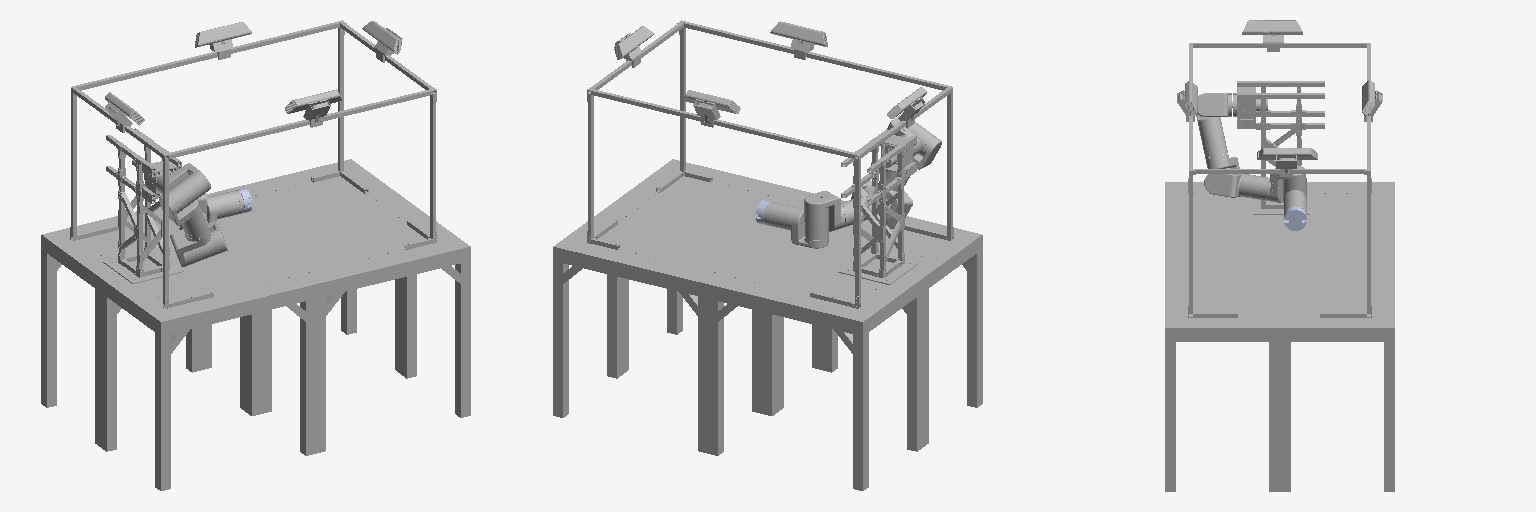
URDF robot description (arm_table_setup_home_g1):
<?xml version="1.0" encoding="utf-8"?>
<!-- This URDF was automatically created by SolidWorks to URDF Exporter! Originally created by [author] ([email redacted]) 
     Commit Version: 1.5.1-0-g916b5db  Build Version: 1.5.7152.31018
     For more information, please see http://wiki.ros.org/sw_urdf_exporter -->
<robot
  name="arm_table_setup_home_g1">
  <link
    name="base_link">
    <inertial>
      <origin
        xyz="0.555926187635155 -0.107150073903112 0.00613742105504832"
        rpy="0 0 0" />
      <mass
        value="152.887578230505" />
      <inertia
        ixx="11.7775480709916"
        ixy="-1.4306831755556E-07"
        ixz="-0.000210573790101669"
        iyy="22.1965870841863"
        iyz="-1.85714537732484E-09"
        izz="20.3629245361025" />
    </inertial>
    <visual>
      <origin
        xyz="0 0 0"
        rpy="0 0 0" />
      <geometry>
        <mesh
          filename="package://arm_table_setup_home_g1/meshes/base_link.STL" />
      </geometry>
      <material
        name="">
        <color
          rgba="0.752941176470588 0.752941176470588 0.752941176470588 1" />
      </material>
    </visual>
    <collision>
      <origin
        xyz="0 0 0"
        rpy="0 0 0" />
      <geometry>
        <mesh
          filename="package://arm_table_setup_home_g1/meshes/base_link.STL" />
      </geometry>
    </collision>
  </link>
  <link
    name="kinect_1">
    <inertial>
      <origin
        xyz="-0.0068373 0.0042244 0.031821"
        rpy="0 0 0" />
      <mass
        value="0.65867" />
      <inertia
        ixx="0.00026965"
        ixy="9.3546E-07"
        ixz="-4.3635E-08"
        iyy="0.0029864"
        iyz="5.7148E-06"
        izz="0.0031114" />
    </inertial>
    <visual>
      <origin
        xyz="0 0 0"
        rpy="0 0 0" />
      <geometry>
        <mesh
          filename="package://arm_table_setup_home_g1/meshes/kinect_1.STL" />
      </geometry>
      <material
        name="">
        <color
          rgba="0.75294 0.75294 0.75294 1" />
      </material>
    </visual>
    <collision>
      <origin
        xyz="0 0 0"
        rpy="0 0 0" />
      <geometry>
        <mesh
          filename="package://arm_table_setup_home_g1/meshes/kinect_1.STL" />
      </geometry>
    </collision>
  </link>
  <joint
    name="f1"
    type="fixed">
    <origin
      xyz="0.62437 -0.439 0.79316"
      rpy="1.023 0 3.1416" />
    <parent
      link="base_link" />
    <child
      link="kinect_1" />
    <axis
      xyz="0 0 0" />
  </joint>
  <link
    name="kinect_2">
    <inertial>
      <origin
        xyz="-0.00683731306927218 0.0318980412978965 0.00359936564117103"
        rpy="0 0 0" />
      <mass
        value="0.658667040657649" />
      <inertia
        ixx="0.000269654953194106"
        ixy="1.83994239740207E-07"
        ixz="-9.18232825990691E-07"
        iyy="0.00310673761326781"
        iyz="2.42882683483155E-05"
        izz="0.00299103240671304" />
    </inertial>
    <visual>
      <origin
        xyz="0 0 0"
        rpy="0 0 0" />
      <geometry>
        <mesh
          filename="package://arm_table_setup_home_g1/meshes/kinect_2.STL" />
      </geometry>
      <material
        name="">
        <color
          rgba="0.752941176470588 0.752941176470588 0.752941176470588 1" />
      </material>
    </visual>
    <collision>
      <origin
        xyz="0 0 0"
        rpy="0 0 0" />
      <geometry>
        <mesh
          filename="package://arm_table_setup_home_g1/meshes/kinect_2.STL" />
      </geometry>
    </collision>
  </link>
  <joint
    name="f2"
    type="fixed">
    <origin
      xyz="-0.153875025183943 -0.0313674139574302 0.786002895607127"
      rpy="2.23402144255273 0 1.5707963267949" />
    <parent
      link="base_link" />
    <child
      link="kinect_2" />
    <axis
      xyz="0 0 0" />
  </joint>
  <link
    name="kinect_3">
    <inertial>
      <origin
        xyz="-0.00683731408661981 0.00422438875735742 0.0318212943190294"
        rpy="0 0 0" />
      <mass
        value="0.658667014103996" />
      <inertia
        ixx="0.000269654907378906"
        ixy="9.35457020504485E-07"
        ixz="-4.36353832367267E-08"
        iyy="0.00298640106244888"
        iyz="5.71483934992754E-06"
        izz="0.00311136802875618" />
    </inertial>
    <visual>
      <origin
        xyz="0 0 0"
        rpy="0 0 0" />
      <geometry>
        <mesh
          filename="package://arm_table_setup_home_g1/meshes/kinect_3.STL" />
      </geometry>
      <material
        name="">
        <color
          rgba="0.752941176470588 0.752941176470588 0.752941176470588 1" />
      </material>
    </visual>
    <collision>
      <origin
        xyz="0 0 0"
        rpy="0 0 0" />
      <geometry>
        <mesh
          filename="package://arm_table_setup_home_g1/meshes/kinect_3.STL" />
      </geometry>
    </collision>
  </link>
  <joint
    name="f3"
    type="fixed">
    <origin
      xyz="0.631632586042565 0.428002407592906 0.793156716947356"
      rpy="1.02296976618809 0 0" />
    <parent
      link="base_link" />
    <child
      link="kinect_3" />
    <axis
      xyz="0 0 0" />
  </joint>
  <link
    name="kinect_4">
    <inertial>
      <origin
        xyz="-0.00683731272631807 0.00422438560085237 0.0318212985694526"
        rpy="0 0 0" />
      <mass
        value="0.658667040657649" />
      <inertia
        ixx="0.000269654953213439"
        ixy="9.35502685517322E-07"
        ixz="-4.35856875964107E-08"
        iyy="0.00298640154185902"
        iyz="5.71488399130886E-06"
        izz="0.00311136847809632" />
    </inertial>
    <visual>
      <origin
        xyz="0 0 0"
        rpy="0 0 0" />
      <geometry>
        <mesh
          filename="package://arm_table_setup_home_g1/meshes/kinect_4.STL" />
      </geometry>
      <material
        name="">
        <color
          rgba="0.752941176470588 0.752941176470588 0.752941176470588 1" />
      </material>
    </visual>
    <collision>
      <origin
        xyz="0 0 0"
        rpy="0 0 0" />
      <geometry>
        <mesh
          filename="package://arm_table_setup_home_g1/meshes/kinect_4.STL" />
      </geometry>
    </collision>
  </link>
  <joint
    name="f4"
    type="fixed">
    <origin
      xyz="1.2589 0.021367 0.786"
      rpy="0.90757 0 -1.5708" />
    <parent
      link="base_link" />
    <child
      link="kinect_4" />
    <axis
      xyz="0 0 0" />
  </joint>
  <link
    name="link_1">
    <inertial>
      <origin
        xyz="-0.0304469285667581 0.0892476159291856 -5.3816924209249E-06"
        rpy="0 0 0" />
      <mass
        value="2.23340018577892" />
      <inertia
        ixx="0.00566945513380893"
        ixy="0.000548940397930336"
        ixz="4.69021533629414E-08"
        iyy="0.00570021617187052"
        iyz="-6.28193069104502E-07"
        izz="0.00782054334841233" />
    </inertial>
    <visual>
      <origin
        xyz="0 0 0"
        rpy="0 0 0" />
      <geometry>
        <mesh
          filename="package://arm_table_setup_home_g1/meshes/link_1.STL" />
      </geometry>
      <material
        name="">
        <color
          rgba="0.752941176470588 0.752941176470588 0.752941176470588 1" />
      </material>
    </visual>
    <collision>
      <origin
        xyz="0 0 0"
        rpy="0 0 0" />
      <geometry>
        <mesh
          filename="package://arm_table_setup_home_g1/meshes/link_1.STL" />
      </geometry>
    </collision>
  </link>
  <joint
    name="q1"
    type="continuous">
    <origin
      xyz="0 -0.2219 0.485"
      rpy="0 0.43633 -3.1416" />
    <parent
      link="base_link" />
    <child
      link="link_1" />
    <axis
      xyz="0 1 0" />
  </joint>
  <link
    name="link_2">
    <inertial>
      <origin
        xyz="0.120800685685584 -1.87317178082513E-05 -0.0224099920566851"
        rpy="0 0 0" />
      <mass
        value="1.92881777954529" />
      <inertia
        ixx="0.00432935683532361"
        ixy="-8.19863395767092E-07"
        ixz="-0.00236963686501402"
        iyy="0.00876077277547781"
        iyz="1.9498700699253E-06"
        izz="0.00747131884327465" />
    </inertial>
    <visual>
      <origin
        xyz="0 0 0"
        rpy="0 0 0" />
      <geometry>
        <mesh
          filename="package://arm_table_setup_home_g1/meshes/link_2.STL" />
      </geometry>
      <material
        name="">
        <color
          rgba="0.752941176470588 0.752941176470588 0.752941176470588 1" />
      </material>
    </visual>
    <collision>
      <origin
        xyz="0 0 0"
        rpy="0 0 0" />
      <geometry>
        <mesh
          filename="package://arm_table_setup_home_g1/meshes/link_2.STL" />
      </geometry>
    </collision>
  </link>
  <joint
    name="q2"
    type="continuous">
    <origin
      xyz="0 0.12 0"
      rpy="1.5708 1.3614 -1.5708" />
    <parent
      link="link_1" />
    <child
      link="link_2" />
    <axis
      xyz="0 0 1" />
  </joint>
  <link
    name="link_3">
    <inertial>
      <origin
        xyz="-0.0304727030504932 0.0798097773145121 -4.54700305879685E-07"
        rpy="0 0 0" />
      <mass
        value="2.23339227122614" />
      <inertia
        ixx="0.0056694069092116"
        ixy="0.000548621050158344"
        ixz="-4.0199194168344E-07"
        iyy="0.00569976097671276"
        iyz="1.28136156341582E-07"
        izz="0.00782012792128964" />
    </inertial>
    <visual>
      <origin
        xyz="0 0 0"
        rpy="0 0 0" />
      <geometry>
        <mesh
          filename="package://arm_table_setup_home_g1/meshes/link_3.STL" />
      </geometry>
      <material
        name="">
        <color
          rgba="0.752941176470588 0.752941176470588 0.752941176470588 1" />
      </material>
    </visual>
    <collision>
      <origin
        xyz="0 0 0"
        rpy="0 0 0" />
      <geometry>
        <mesh
          filename="package://arm_table_setup_home_g1/meshes/link_3.STL" />
      </geometry>
    </collision>
  </link>
  <joint
    name="q3"
    type="continuous">
    <origin
      xyz="0.24634 0 -0.0019"
      rpy="0 -1.2043 -1.5708" />
    <parent
      link="link_2" />
    <child
      link="link_3" />
    <axis
      xyz="0 1 0" />
  </joint>
  <link
    name="link_4">
    <inertial>
      <origin
        xyz="0.121311474433556 -2.42664286446703E-05 -0.0229247482550313"
        rpy="0 0 0" />
      <mass
        value="1.88162319757345" />
      <inertia
        ixx="0.00429629613646708"
        ixy="-1.86119691559353E-06"
        ixz="-0.00236854550056609"
        iyy="0.00873964268218225"
        iyz="1.71254281204352E-06"
        izz="0.0074500884956848" />
    </inertial>
    <visual>
      <origin
        xyz="0 0 0"
        rpy="0 0 0" />
      <geometry>
        <mesh
          filename="package://arm_table_setup_home_g1/meshes/link_4.STL" />
      </geometry>
      <material
        name="">
        <color
          rgba="0.752941176470588 0.752941176470588 0.752941176470588 1" />
      </material>
    </visual>
    <collision>
      <origin
        xyz="0 0 0"
        rpy="0 0 0" />
      <geometry>
        <mesh
          filename="package://arm_table_setup_home_g1/meshes/link_4.STL" />
      </geometry>
    </collision>
  </link>
  <joint
    name="q4"
    type="continuous">
    <origin
      xyz="0 0.11056 0"
      rpy="-1.5708 -1.2217 1.5708" />
    <parent
      link="link_3" />
    <child
      link="link_4" />
    <axis
      xyz="0 0 1" />
  </joint>
  <link
    name="link_5">
    <inertial>
      <origin
        xyz="-0.0293834311417498 0.0649543398113324 -2.43673955158119E-06"
        rpy="0 0 0" />
      <mass
        value="2.18618019966333" />
      <inertia
        ixx="0.00563641046291939"
        ixy="0.000550704452787192"
        ixz="-4.91935204069312E-08"
        iyy="0.00568219822096579"
        iyz="6.80370072552111E-08"
        izz="0.00780186592819397" />
    </inertial>
    <visual>
      <origin
        xyz="0 0 0"
        rpy="0 0 0" />
      <geometry>
        <mesh
          filename="package://arm_table_setup_home_g1/meshes/link_5.STL" />
      </geometry>
      <material
        name="">
        <color
          rgba="0.752941176470588 0.752941176470588 0.752941176470588 1" />
      </material>
    </visual>
    <collision>
      <origin
        xyz="0 0 0"
        rpy="0 0 0" />
      <geometry>
        <mesh
          filename="package://arm_table_setup_home_g1/meshes/link_5.STL" />
      </geometry>
    </collision>
  </link>
  <joint
    name="q5"
    type="continuous">
    <origin
      xyz="0.26067 0 -0.0019"
      rpy="-3.1416 -0.34907 1.5708" />
    <parent
      link="link_4" />
    <child
      link="link_5" />
    <axis
      xyz="0 1 0" />
  </joint>
  <link
    name="link_6">
    <inertial>
      <origin
        xyz="0.121279348452268 -2.45568844096516E-05 -0.0231303254585771"
        rpy="0 0 0" />
      <mass
        value="1.87324422188306" />
      <inertia
        ixx="0.00427703627376336"
        ixy="-1.8513675026496E-06"
        ixz="-0.00235433064324551"
        iyy="0.0086866450186849"
        iyz="1.73227653703621E-06"
        izz="0.00740477183085153" />
    </inertial>
    <visual>
      <origin
        xyz="0 0 0"
        rpy="0 0 0" />
      <geometry>
        <mesh
          filename="package://arm_table_setup_home_g1/meshes/link_6.STL" />
      </geometry>
      <material
        name="">
        <color
          rgba="0.752941176470588 0.752941176470588 0.752941176470588 1" />
      </material>
    </visual>
    <collision>
      <origin
        xyz="0 0 0"
        rpy="0 0 0" />
      <geometry>
        <mesh
          filename="package://arm_table_setup_home_g1/meshes/link_6.STL" />
      </geometry>
    </collision>
  </link>
  <joint
    name="q6"
    type="continuous">
    <origin
      xyz="0 0.096369 0"
      rpy="-1.5708 -1.1868 1.5708" />
    <parent
      link="link_5" />
    <child
      link="link_6" />
    <axis
      xyz="0 0 1" />
  </joint>
  <link
    name="link_7">
    <inertial>
      <origin
        xyz="2.96299528662614E-08 0.0218407181791312 7.40835587320632E-09"
        rpy="0 0 0" />
      <mass
        value="0.26333383851084" />
      <inertia
        ixx="0.000263047482245948"
        ixy="-4.7863502373422E-11"
        ixz="1.52216030828932E-10"
        iyy="0.000418102055058606"
        iyz="-3.13056125617073E-12"
        izz="0.00022439184406427" />
    </inertial>
    <visual>
      <origin
        xyz="0 0 0"
        rpy="0 0 0" />
      <geometry>
        <mesh
          filename="package://arm_table_setup_home_g1/meshes/link_7.STL" />
      </geometry>
      <material
        name="">
        <color
          rgba="0.792156862745098 0.819607843137255 0.933333333333333 1" />
      </material>
    </visual>
    <collision>
      <origin
        xyz="0 0 0"
        rpy="0 0 0" />
      <geometry>
        <mesh
          filename="package://arm_table_setup_home_g1/meshes/link_7.STL" />
      </geometry>
    </collision>
  </link>
  <joint
    name="q7"
    type="continuous">
    <origin
      xyz="0.23716 0 -0.00204"
      rpy="0 0 -1.5708" />
    <parent
      link="link_6" />
    <child
      link="link_7" />
    <axis
      xyz="0 1 0" />
  </joint>

<link name="link_8" />
<joint name="q8" type="fixed">
 <origin rpy="-1.570796 0 0" xyz="0 0.03789 0.0039"/>
    <parent link="link_7"/>
    <child link="link_8"/>
    <axis xyz="0 0 0"/>
  </joint>


<joint name="panda_hand_joint" type="fixed">
<parent link="link_8" />
<child link="panda_hand"/>
<origin rpy="0 0.040334 -1.5708" xyz="0 0 0"/>
</joint>

<link name="panda_hand">
<visual>
      <geometry>
        <mesh filename="package://arm_table_setup_home_g1/panda_meshes/collision/hand.obj"/>
      </geometry>
      <material name="panda_white"/>
    </visual>
    <collision>
      <geometry>
        <mesh filename="package://arm_table_setup_home_g1/panda_meshes/collision/hand.obj"/>
      </geometry>
      <material name="panda_white"/>
    </collision>
  </link>
<link name="panda_leftfinger">
    <visual>
      <geometry>
        <mesh filename="package://arm_table_setup_home_g1/panda_meshes/collision/finger.obj"/>
      </geometry>
      <material name="panda_white"/>
    </visual>
    <collision>
      <geometry>
        <mesh filename="package://arm_table_setup_home_g1/panda_meshes/collision/finger.obj"/>
      </geometry>
      <material name="panda_white"/>
    </collision>
  </link>
  <link name="panda_rightfinger">
    <visual>
      <origin rpy="0 0 3.14159265359" xyz="0 0 0"/>
      <geometry>
        <mesh filename="package://arm_table_setup_home_g1/panda_meshes/collision/finger.obj"/>
      </geometry>
      <material name="panda_white"/>
    </visual>
    <collision>
      <origin rpy="0 0 3.14159265359" xyz="0 0 0"/>
      <geometry>
        <mesh filename="package://arm_table_setup_home_g1/panda_meshes/collision/finger.obj"/>
      </geometry>
      <material name="panda_white"/>
    </collision>
  </link>
  <joint name="panda_finger_joint1" type="prismatic">
    <parent link="panda_hand"/>
    <child link="panda_leftfinger"/>
    <origin rpy="0 0 0" xyz="0 0 0.0584"/>
    <axis xyz="0 1 0"/>
    <limit effort="20" lower="0.0" upper="0.04" velocity="0.2"/>
  </joint>
  <joint name="panda_finger_joint2" type="prismatic">
    <parent link="panda_hand"/>
    <child link="panda_rightfinger"/>
    <origin rpy="0 0 0" xyz="0 0 0.0584"/>
    <axis xyz="0 -1 0"/>
    <limit effort="20" lower="0.0" upper="0.04" velocity="0.2"/>
    <mimic joint="panda_finger_joint1"/>
  </joint>
  <material name="panda_white">
    <color rgba="1. 1. 1. 1."/>
  </material>
</robot>

--- Facts derived from the render (not from the file) ---
The picture shows the robot from 3 angles, left to right: view 1: azimuth 30°, elevation 25°; view 2: azimuth 150°, elevation 25°; view 3: azimuth 270°, elevation 25°; orthographic projection.
Model arm_table_setup_home_g1 with 16 links and 15 joints (7 continuous, 2 prismatic, 6 fixed), rooted at base_link, posed all joints at 0.
Links seen in each view (by area): view 1: base_link, link_1, link_3, link_2, link_6, kinect_3, kinect_1, kinect_4; view 2: base_link, link_5, link_6, kinect_1, link_2, kinect_3, link_1, kinect_4; view 3: base_link, link_4, link_2, link_5, kinect_2, link_1, kinect_4.
Link boxes in pixels (bbox=[...]): base_link: bbox=[41, 20, 470, 490]; link_1: bbox=[159, 163, 210, 210]; link_3: bbox=[170, 228, 218, 267]; link_2: bbox=[159, 194, 207, 238]; link_6: bbox=[179, 190, 243, 229]; kinect_3: bbox=[195, 22, 251, 47]; kinect_1: bbox=[285, 89, 341, 113]; kinect_4: bbox=[362, 21, 401, 54]; base_link: bbox=[553, 20, 982, 490]; link_5: bbox=[804, 191, 844, 239]; link_6: bbox=[764, 202, 828, 248]; kinect_1: bbox=[770, 21, 827, 46]; link_2: bbox=[886, 136, 941, 187]; kinect_3: bbox=[683, 90, 740, 113]; link_1: bbox=[887, 113, 933, 156]; kinect_4: bbox=[614, 26, 653, 59]; base_link: bbox=[1165, 35, 1394, 491]; link_4: bbox=[1204, 174, 1269, 200]; link_2: bbox=[1196, 113, 1227, 157]; link_5: bbox=[1266, 165, 1306, 202]; kinect_2: bbox=[1242, 20, 1302, 35]; link_1: bbox=[1197, 93, 1231, 116]; kinect_4: bbox=[1257, 148, 1317, 159].
Size in the robot's own frame: 1.57 by 1.05 by 1.68 metres.
12 mesh visuals loaded from 14 distinct referenced files (12 binary STL); not drawn: 3 (reference not matched to a file when rendering).
